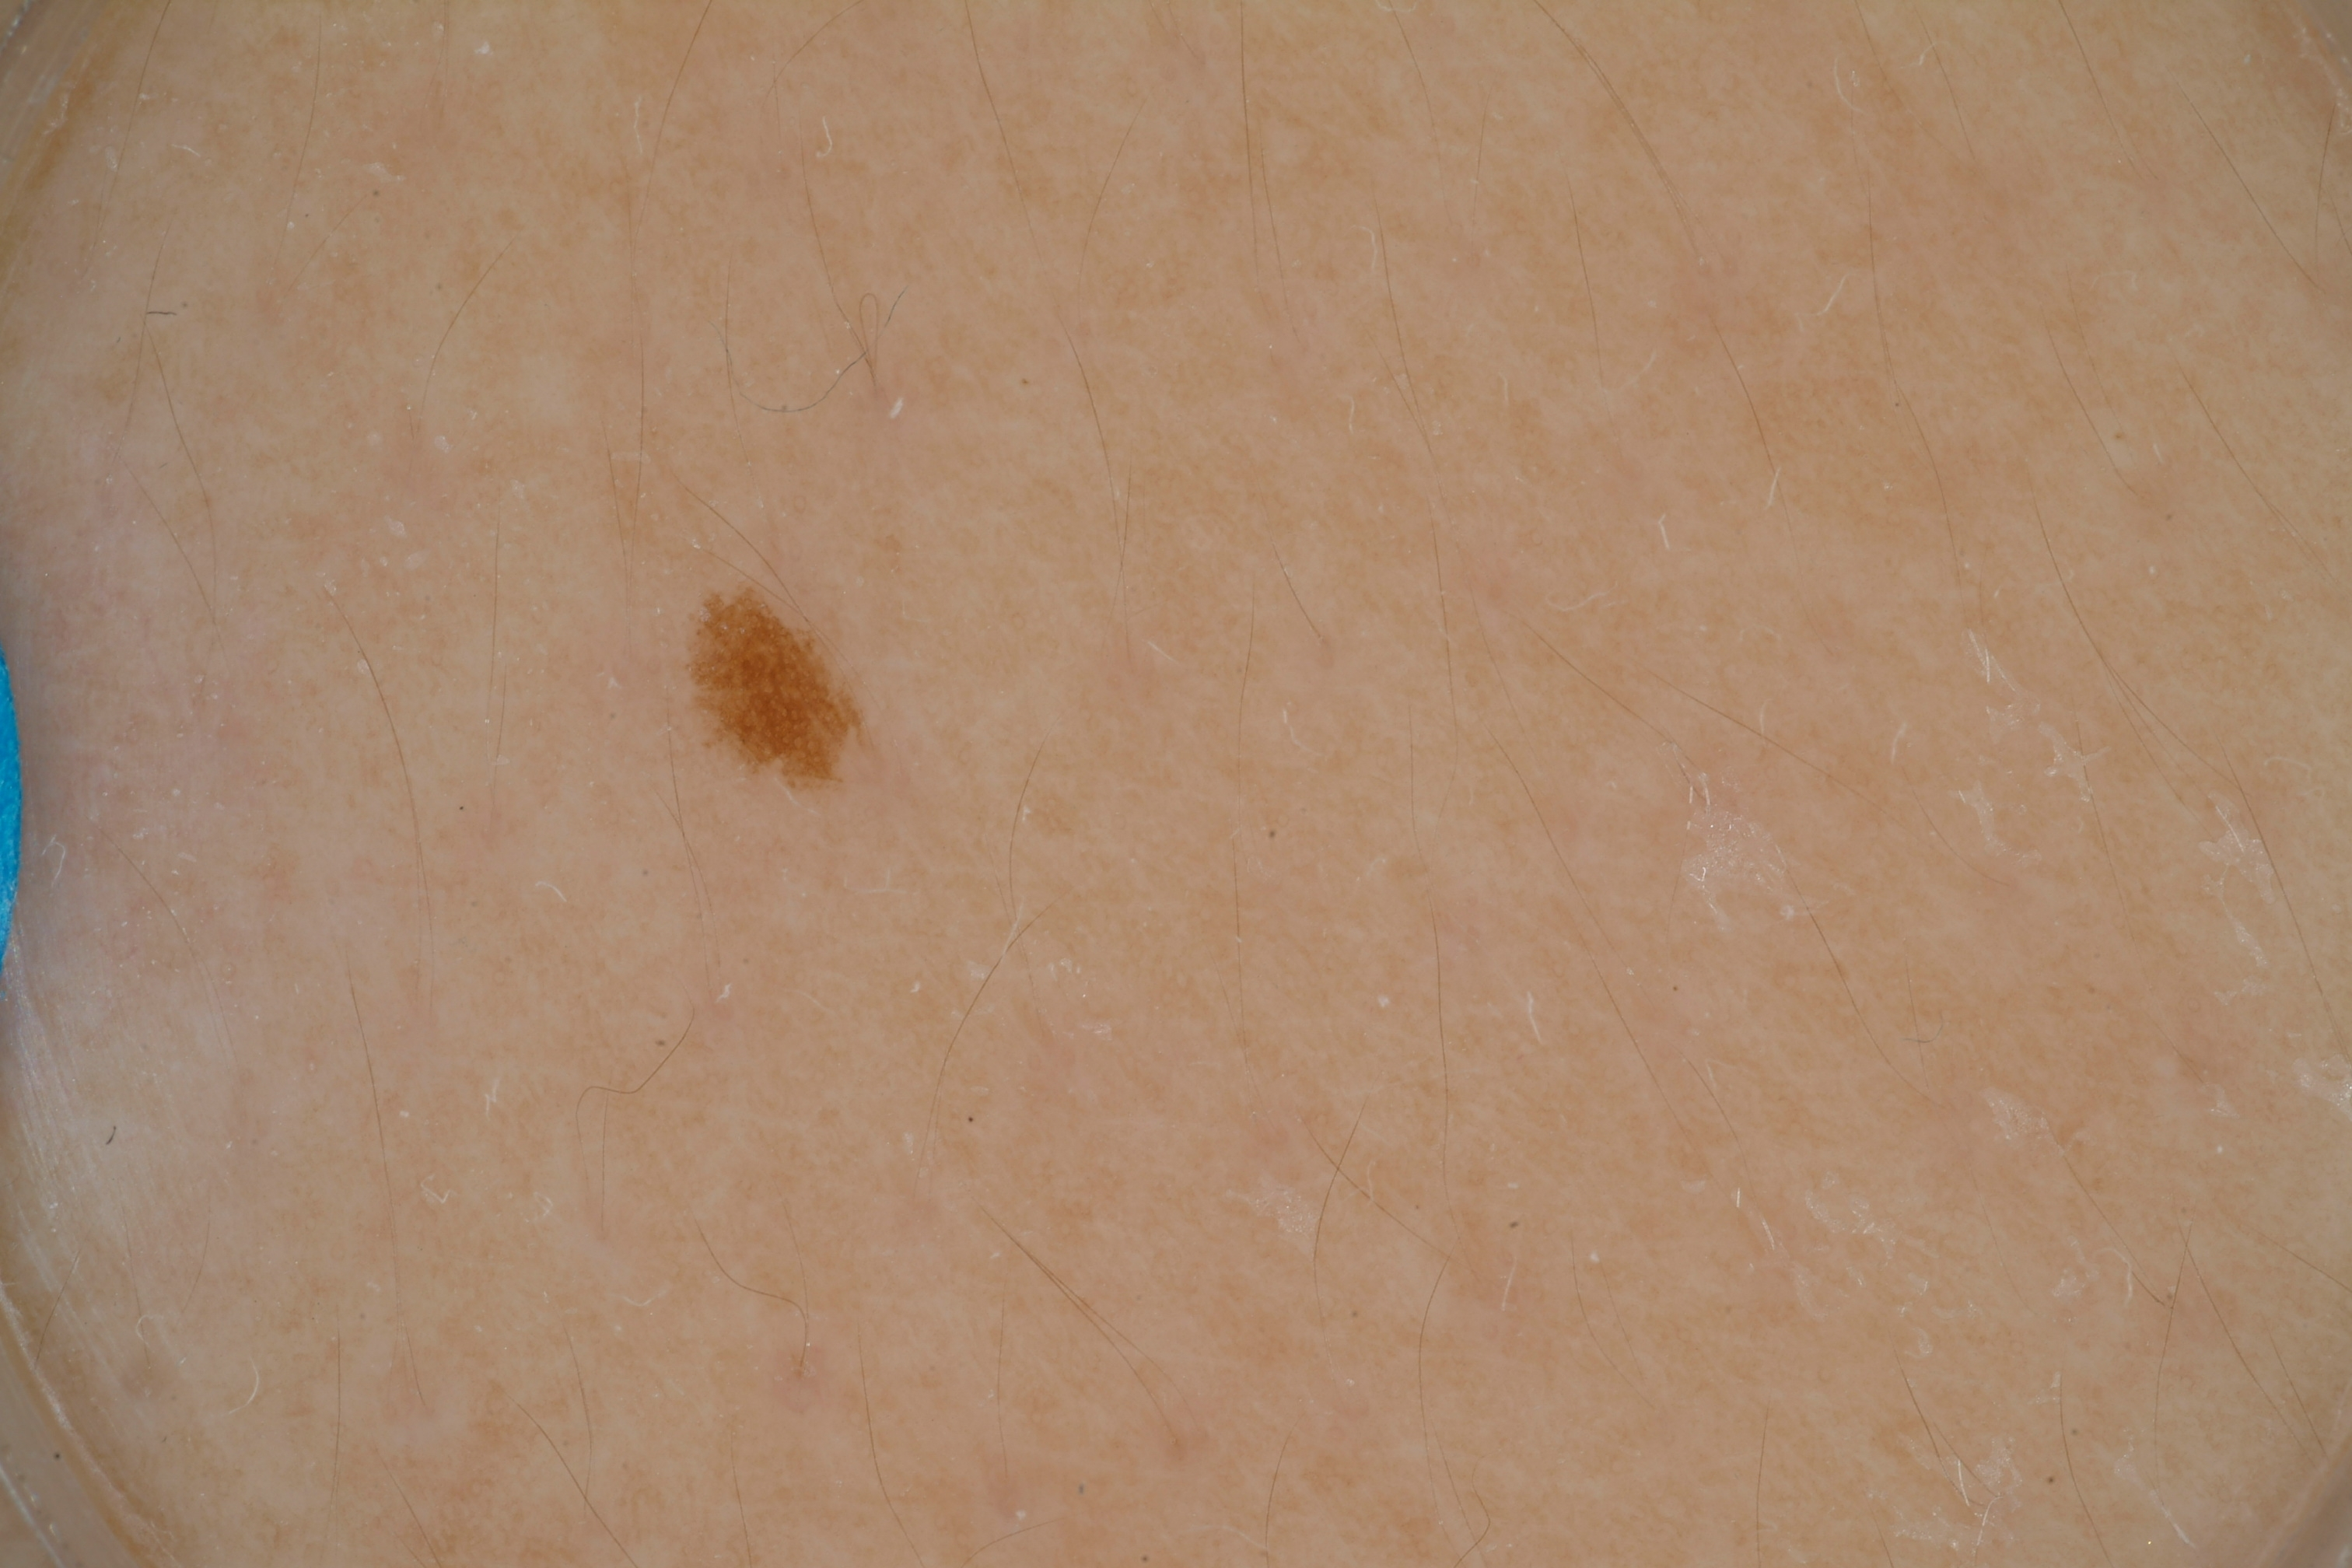Detected Lesion: (674, 570, 878, 798)
